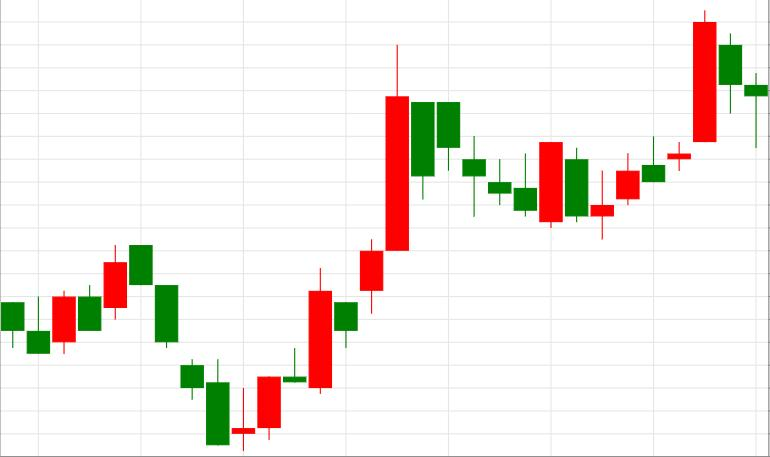bullish_engulfing_rise: (411, 102, 563, 229)
